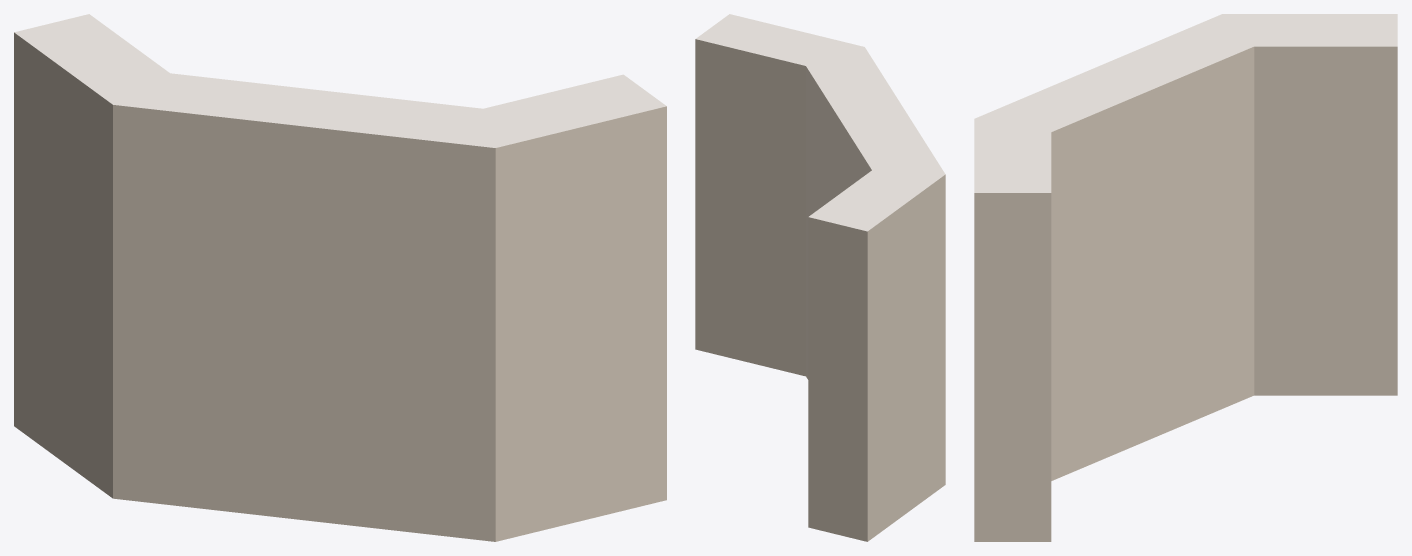
File: temple_Wall_Curved_Small_Middle.glb
3 views of the same model, side by side, from view 1: azimuth 30°, elevation 25°; view 2: azimuth 150°, elevation 25°; view 3: azimuth 270°, elevation 25° (orthographic). The views are drawn at different scales.
Visible parts, largest first — view 1: object1; view 2: object1; view 3: object1.
Part boxes in pixels (x1=…): object1: x1=14, y1=14, x2=666, y2=541; object1: x1=695, y1=14, x2=945, y2=541; object1: x1=974, y1=14, x2=1397, y2=541.
Size of the model in its own units: 1.1 by 1 by 1.1.
